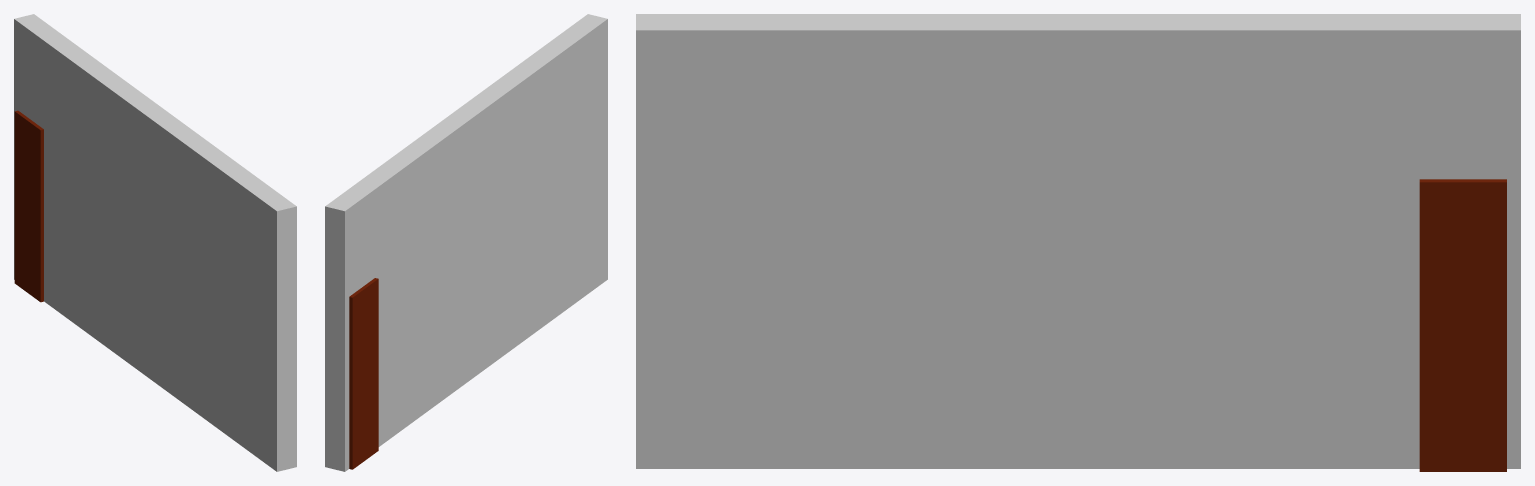
The model's file is ParedePorta.glb.
3 views of the same model, side by side, from view 1: azimuth 30°, elevation 25°; view 2: azimuth 150°, elevation 25°; view 3: azimuth 270°, elevation 25° (orthographic). The views are drawn at different scales.
Visible parts, largest first — view 1: Cube, Cube.001; view 2: Cube, Cube.001; view 3: Cube, Cube.001.
Part boxes in pixels (<box>): Cube: <box>14,14,296,471</box>; Cube.001: <box>14,110,43,302</box>; Cube: <box>325,14,607,471</box>; Cube.001: <box>349,278,378,469</box>; Cube: <box>636,14,1520,468</box>; Cube.001: <box>1419,179,1506,471</box>.
Size of the model in its own units: 1.08 by 10 by 18.28.
